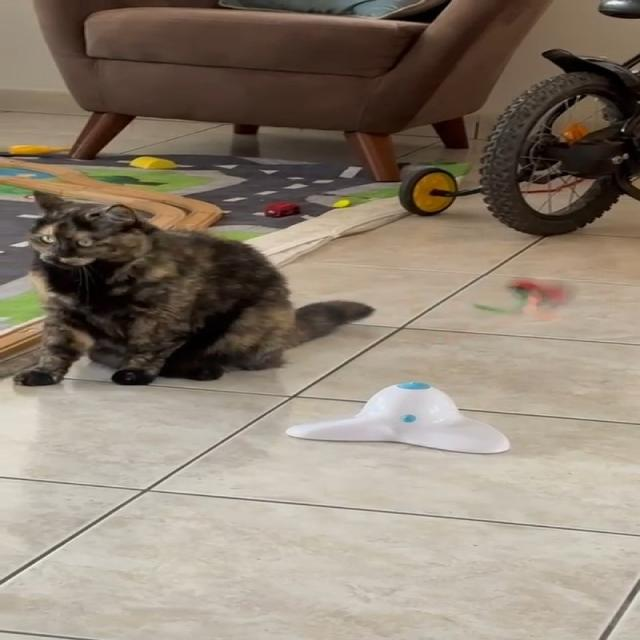authorized: (13, 190, 375, 386)
